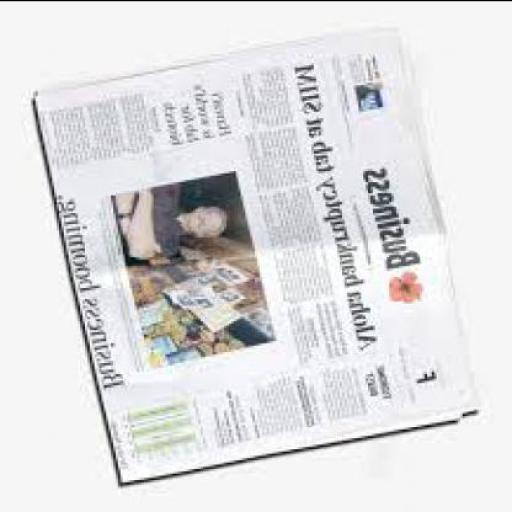paper: (38, 27, 484, 490)
